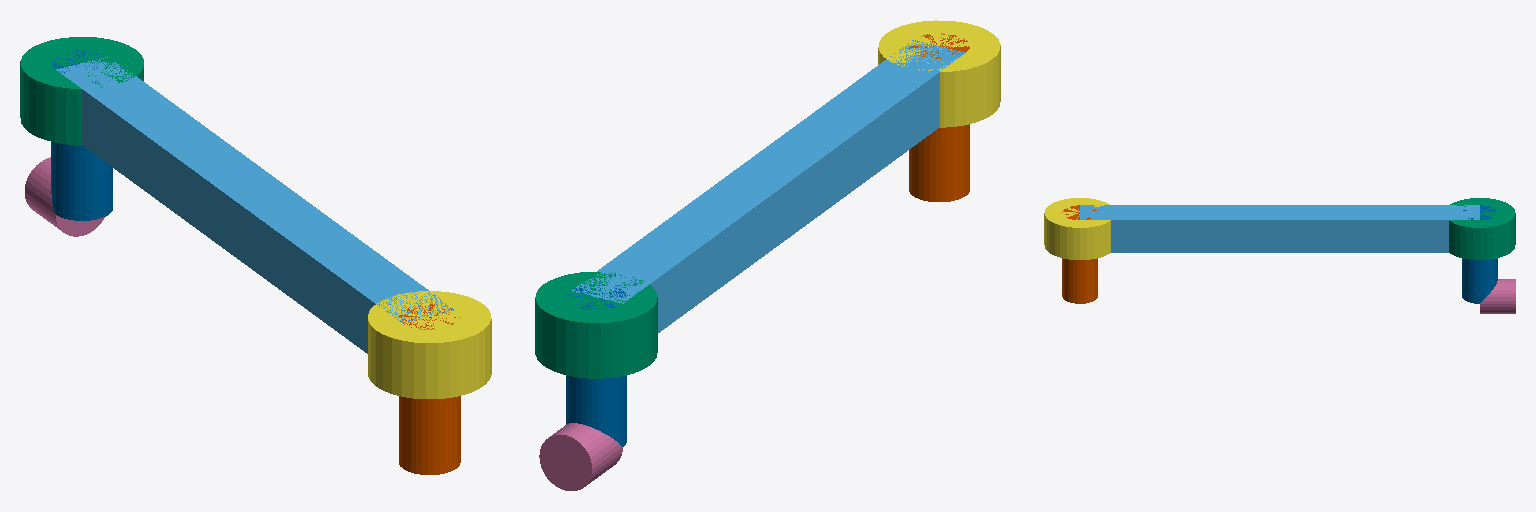
The robot description file, URDF, robot "front_axle_assembly":
<?xml version="1.0" ?>
<!-- =================================================================================== -->
<!-- |    This document was autogenerated by xacro from front_axle.urdf.xacro          | -->
<!-- |    EDITING THIS FILE BY HAND IS NOT RECOMMENDED                                 | -->
<!-- =================================================================================== -->
<robot name="front_axle_assembly" xmlns:xacro="http://www.ros.org/wiki/xacro">
  <!-- Used for fixing robot to Gazebo 'base_link' -->
  <link name="world"/>
  <joint name="fixed" type="fixed">
    <parent link="world"/>
    <child link="front_axle"/>
    <origin xyz="0 0 1"/>
  </joint>
  <!-- front_axle-->
  <link name="front_axle">
    <visual>
      <origin rpy="0 0 0" xyz="0 0 0"/>
      <geometry>
        <box size="0.1 1.12 0.1"/>
      </geometry>
      <material name="mat_1"/>
    </visual>
    <collision>
      <origin rpy="0 0 0" xyz="0 0 0"/>
      <geometry>
        <box size="0.1 1.12 0.1"/>
      </geometry>
    </collision>
    <inertial>
      <mass value="10"/>
      <origin/>
      <inertia ixx="1.05366666667" ixy="0" ixz="0" iyy="0.0166666666667" iyz="0" izz="1.05366666667"/>
    </inertial>
  </link>
  <!-- shock_upper_front_left -->
  <link name="shock_upper_front_left">
    <visual>
      <origin xyz="0 0 0"/>
      <geometry>
        <cylinder length="0.1" radius="0.1"/>
      </geometry>
      <material name="tire_mat"/>
    </visual>
    <collision>
      <origin xyz="0 0 0"/>
      <geometry>
        <cylinder length="0.1" radius="0.1"/>
      </geometry>
    </collision>
    <inertial>
      <mass value="3"/>
      <inertia ixx="0.016075" ixy="0" ixz="0" iyy="0.016075" iyz="0" izz="0.02715"/>
    </inertial>
  </link>
  <!-- JOINT shock_upper_front_left TO front_axle -->
  <joint name="shock_front_left_to_front_axle_joint" type="fixed">
    <parent link="front_axle"/>
    <child link="shock_upper_front_left"/>
    <origin xyz="0 0.56 0"/>
  </joint>
  <!-- shock_upper_front_right -->
  <link name="shock_upper_front_right">
    <visual>
      <origin xyz="0 0 0"/>
      <geometry>
        <cylinder length="0.1" radius="0.1"/>
      </geometry>
      <material name="tire_mat"/>
    </visual>
    <collision>
      <origin xyz="0 0 0"/>
      <geometry>
        <cylinder length="0.1" radius="0.1"/>
      </geometry>
    </collision>
    <inertial>
      <mass value="3"/>
      <inertia ixx="0.016075" ixy="0" ixz="0" iyy="0.016075" iyz="0" izz="0.02715"/>
    </inertial>
  </link>
  <!-- JOINT shock_upper_front_right TO front_axle -->
  <joint name="shock_front_right_to_front_axle_joint" type="fixed">
    <parent link="front_axle"/>
    <child link="shock_upper_front_right"/>
    <origin xyz="0 -0.56 0"/>
  </joint>
  <!-- shock_lower_front_left -->
  <link name="shock_lower_front_left">
    <visual>
      <origin xyz="0 0 0"/>
      <geometry>
        <cylinder length="0.258" radius="0.05"/>
      </geometry>
      <material name="tire_mat"/>
    </visual>
    <collision>
      <origin xyz="0 0 0"/>
      <geometry>
        <cylinder length="0.258" radius="0.05"/>
      </geometry>
    </collision>
    <inertial>
      <mass value="1"/>
      <inertia ixx="0.006572" ixy="0" ixz="0" iyy="0.006572" iyz="0" izz="0.00205"/>
    </inertial>
  </link>
  <!-- JOINT shock_lower_front_left TO shock_upper_front_left -->
  <joint name="shock_front_left_upper_to_lower_joint" type="prismatic">
    <parent link="shock_upper_front_left"/>
    <child link="shock_lower_front_left"/>
    <origin xyz="0 0 -0.079"/>
    <axis xyz="0 0 1"/>
    <limit effort="20" lower="0" upper="0.208" velocity="1000"/>
  </joint>
  <!-- shock_lower_front_right -->
  <link name="shock_lower_front_right">
    <visual>
      <origin xyz="0 0 0"/>
      <geometry>
        <cylinder length="0.258" radius="0.05"/>
      </geometry>
      <material name="tire_mat"/>
    </visual>
    <collision>
      <origin xyz="0 0 0"/>
      <geometry>
        <cylinder length="0.258" radius="0.05"/>
      </geometry>
    </collision>
    <inertial>
      <mass value="1"/>
      <inertia ixx="0.006572" ixy="0" ixz="0" iyy="0.006572" iyz="0" izz="0.00205"/>
    </inertial>
  </link>
  <!-- JOINT shock_lower_front_right TO shock_upper_front_right -->
  <joint name="shock_front_right_upper_to_lower_joint" type="prismatic">
    <parent link="shock_upper_front_right"/>
    <child link="shock_lower_front_right"/>
    <origin xyz="0 0 -0.079"/>
    <axis xyz="0 0 1"/>
    <limit effort="20" lower="0" upper="0.208" velocity="1000"/>
  </joint>
  <!-- steer_link_front_left -->
  <link name="steer_link_front_left">
    <visual>
      <origin rpy="1.57079633 0 0" xyz="0 0 0"/>
      <geometry>
        <cylinder length="0.1" radius="0.05"/>
      </geometry>
      <material name="tire_mat"/>
    </visual>
    <collision>
      <origin rpy="1.57079633 0 0" xyz="0 0 0"/>
      <geometry>
        <cylinder length="0.1" radius="0.05"/>
      </geometry>
    </collision>
    <inertial>
      <mass value="1"/>
      <inertia ixx="0.00185833333333" ixy="0" ixz="0" iyy="0.00185833333333" iyz="0" izz="0.00205"/>
    </inertial>
  </link>
  <!-- JOINT steer_link_front_left TO shock_lower_front_left -->
  <joint name="steer_link_front_left_to_shock_lower_joint" type="revolute">
    <parent link="shock_lower_front_left"/>
    <child link="steer_link_front_left"/>
    <origin xyz="0 0.05 -0.129"/>
  </joint>
</robot>

--- What the picture shows (computed from the rendered views, not written in the file) ---
3 views of the same robot in one strip: view 1: azimuth 30°, elevation 25°; view 2: azimuth 150°, elevation 25°; view 3: azimuth 270°, elevation 25° (orthographic).
Model front_axle_assembly with 7 links and 6 joints (1 revolute, 2 prismatic, 3 fixed), rooted at world, posed every joint at zero.
Links seen in each view (by area): view 1: front_axle, shock_upper_front_right, shock_upper_front_left, shock_lower_front_right, shock_lower_front_left, steer_link_front_left; view 2: front_axle, shock_upper_front_left, shock_upper_front_right, shock_lower_front_right, steer_link_front_left, shock_lower_front_left; view 3: front_axle, shock_upper_front_right, shock_upper_front_left, shock_lower_front_right, shock_lower_front_left, steer_link_front_left.
Boxes of the visible links, x1,y1,x2,y2 form: front_axle: (56,57,453,353); shock_upper_front_right: (368,291,491,398); shock_upper_front_left: (20,37,143,144); shock_lower_front_right: (399,304,460,474); shock_lower_front_left: (51,50,112,220); steer_link_front_left: (25,157,104,236); front_axle: (571,40,964,332); shock_upper_front_left: (535,272,657,378); shock_upper_front_right: (878,20,1000,127); shock_lower_front_right: (909,33,969,201); steer_link_front_left: (539,423,622,490); shock_lower_front_left: (566,285,626,446); front_axle: (1080,205,1479,252); shock_upper_front_right: (1044,198,1110,259); shock_upper_front_left: (1449,198,1515,259); shock_lower_front_right: (1062,205,1097,303); shock_lower_front_left: (1462,205,1497,303); steer_link_front_left: (1480,279,1515,313).
Bounding box of the posed robot: 0.2 × 1.32 × 0.308 m (x, y, z).
Geometry: primitives only (box / cylinder / sphere), no mesh files.